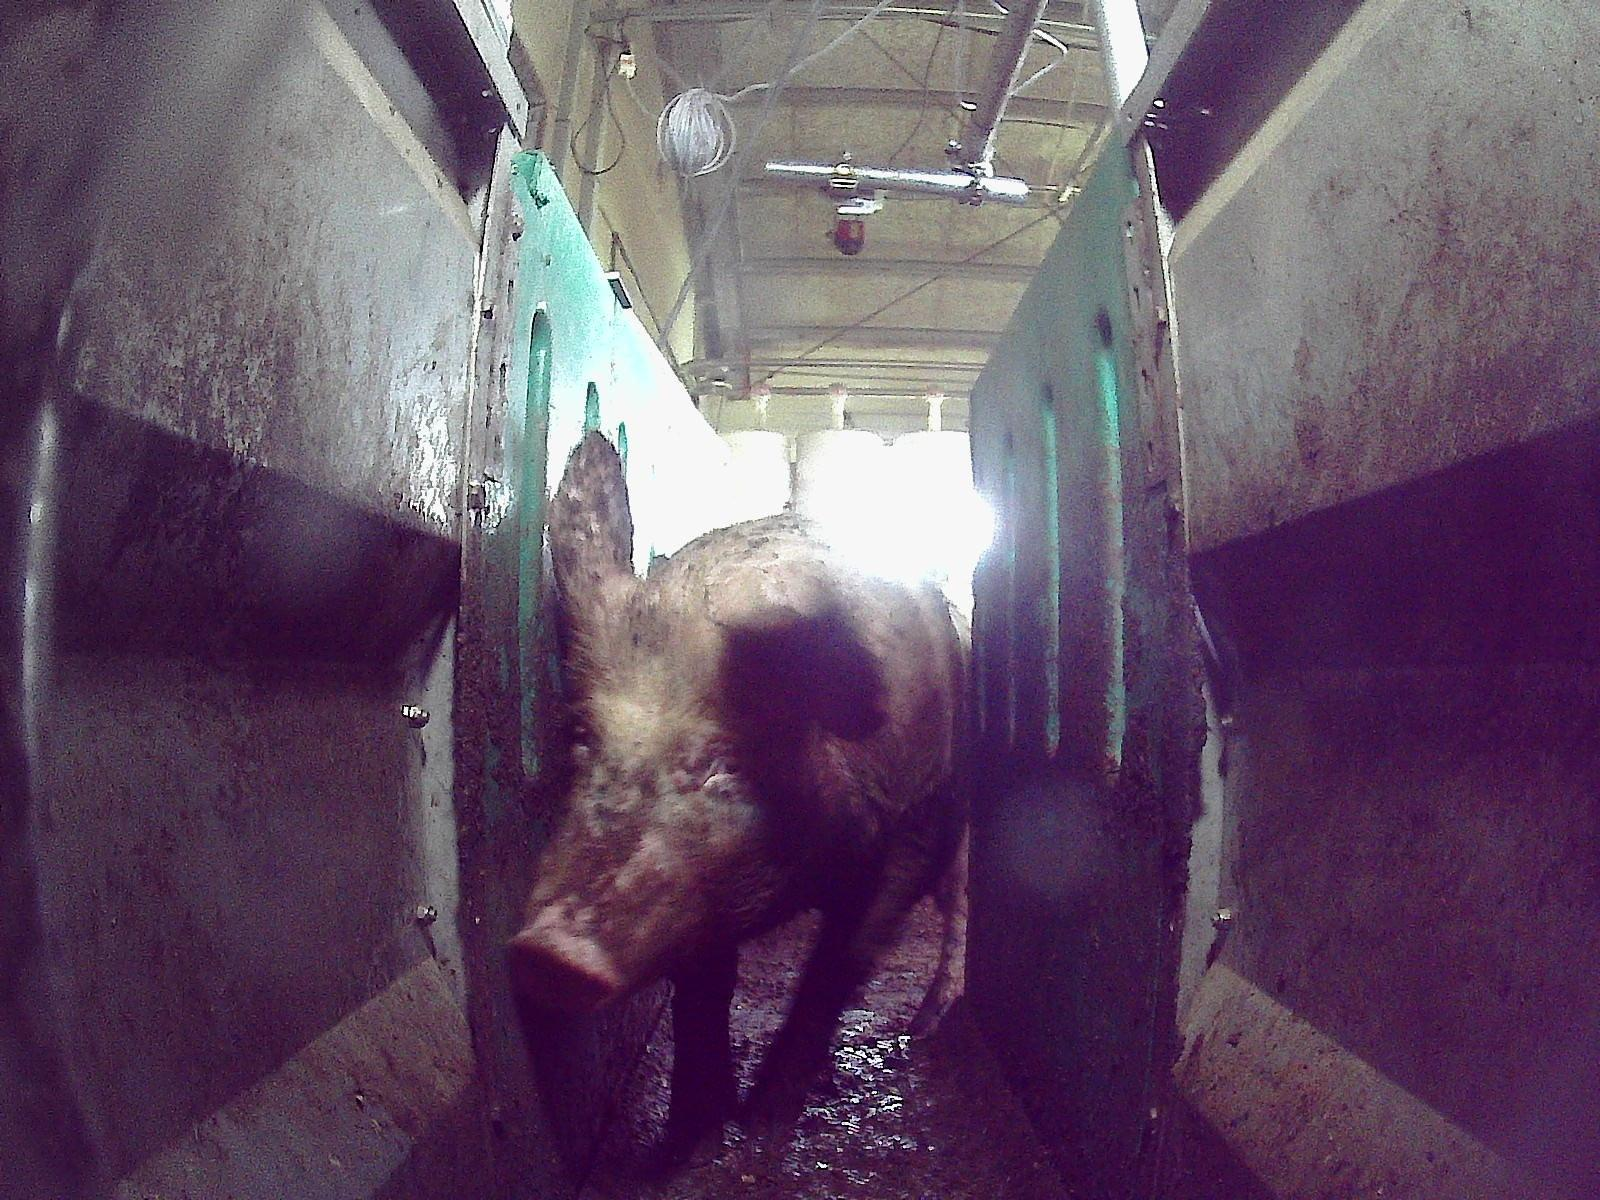Face: (505, 653, 788, 1013)
